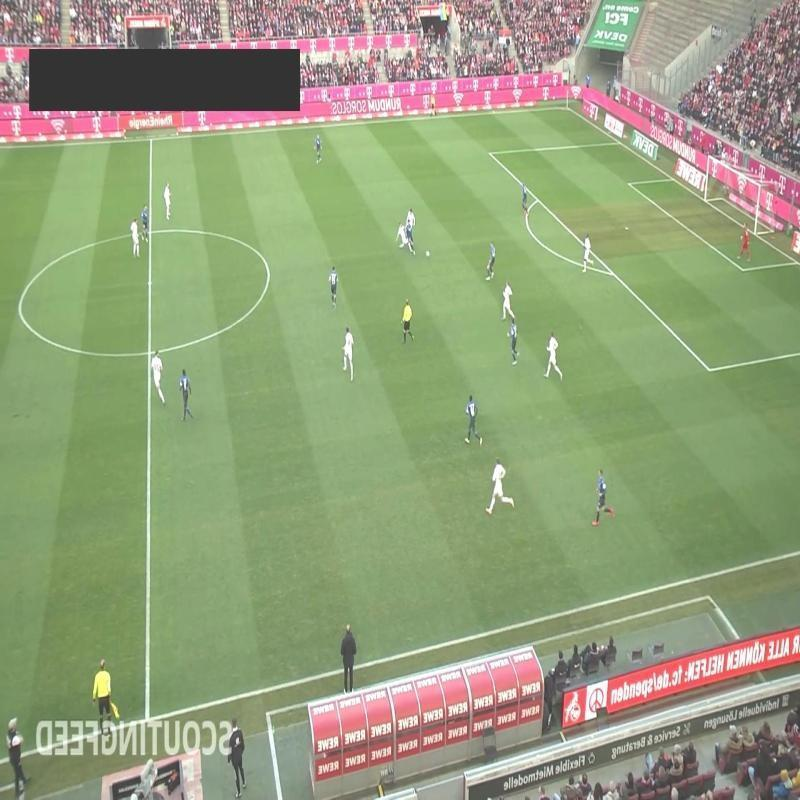1: (557, 99, 572, 113)
10: (530, 193, 544, 207)
11: (604, 264, 618, 278)
12: (702, 361, 716, 375)
13: (143, 132, 157, 146)
14: (142, 224, 156, 238)
15: (141, 346, 155, 360)
16: (135, 708, 162, 730)
2: (611, 134, 625, 148)
3: (665, 171, 679, 185)
4: (793, 258, 800, 268)
7: (622, 178, 636, 192)
8: (735, 262, 749, 276)
9: (483, 147, 497, 161)
c: (261, 260, 275, 285), (13, 301, 28, 314)
